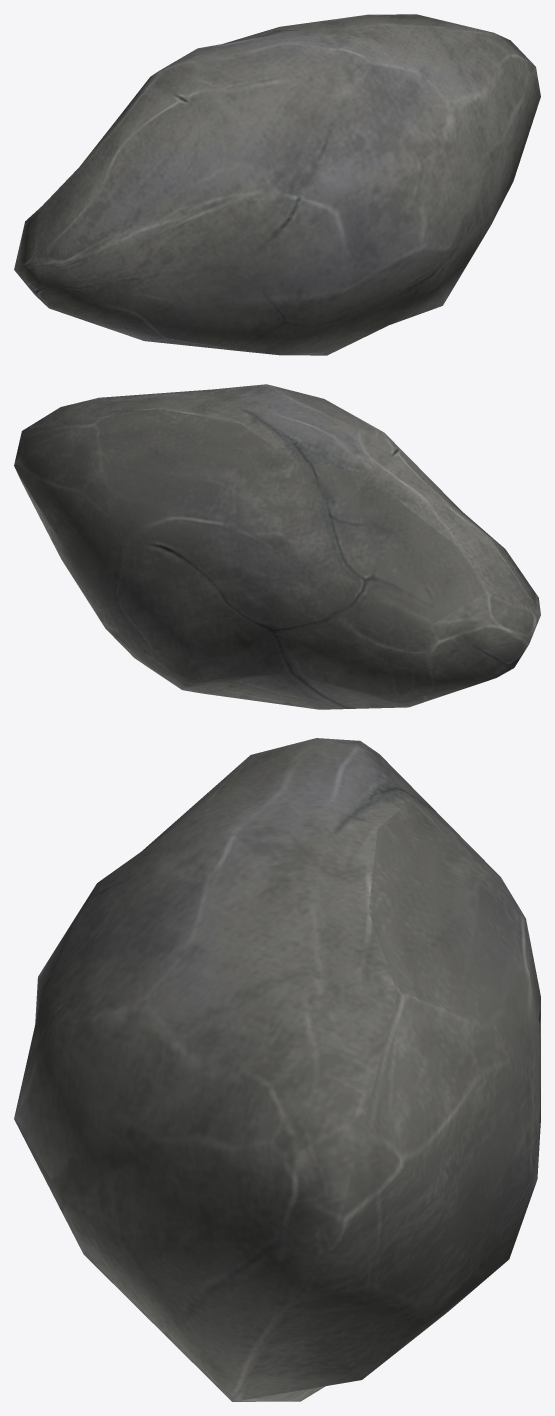
The model's file is rock5.glb.
3 views of the same model, one above another, from view 1: azimuth 30°, elevation 25°; view 2: azimuth 150°, elevation 25°; view 3: azimuth 270°, elevation 25° (orthographic). The views are drawn at different scales.
Visible parts, largest first — view 1: node_id195; view 2: node_id195; view 3: node_id195.
Part boxes in pixels (bbox=[...]): node_id195: bbox=[14, 14, 540, 355]; node_id195: bbox=[14, 384, 540, 709]; node_id195: bbox=[14, 738, 540, 1401].
Size of the model in its own units: 0.1693 by 0.0992 by 0.0882.
Materials: 1 (1 with a texture image).
